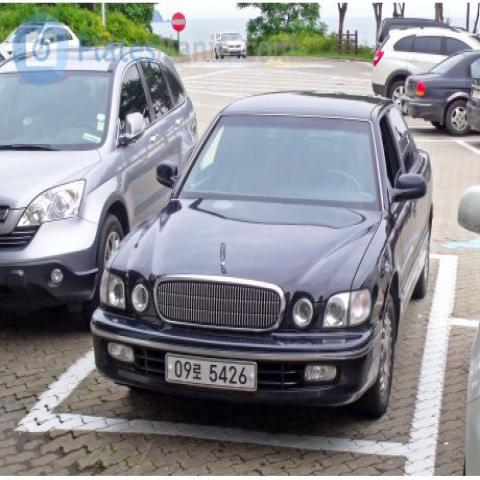LP: (158, 343, 270, 402)
